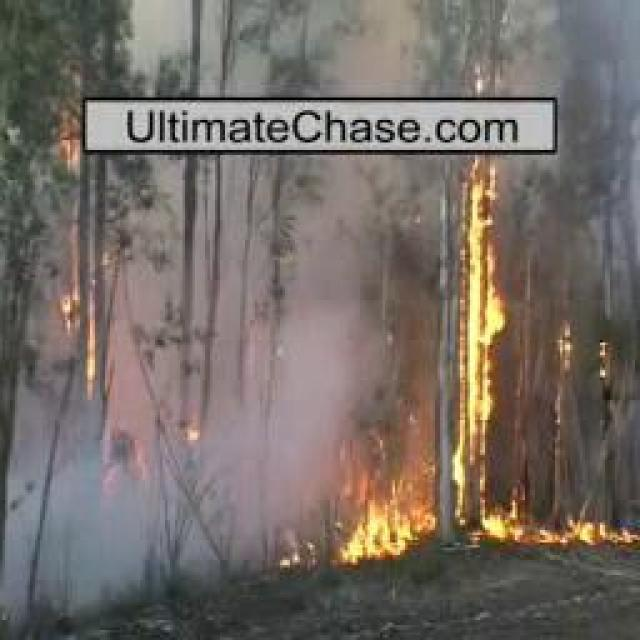Fire: (334, 472, 640, 556), (468, 145, 499, 465), (54, 259, 103, 393), (57, 103, 90, 172), (589, 340, 626, 393), (554, 320, 576, 370)
